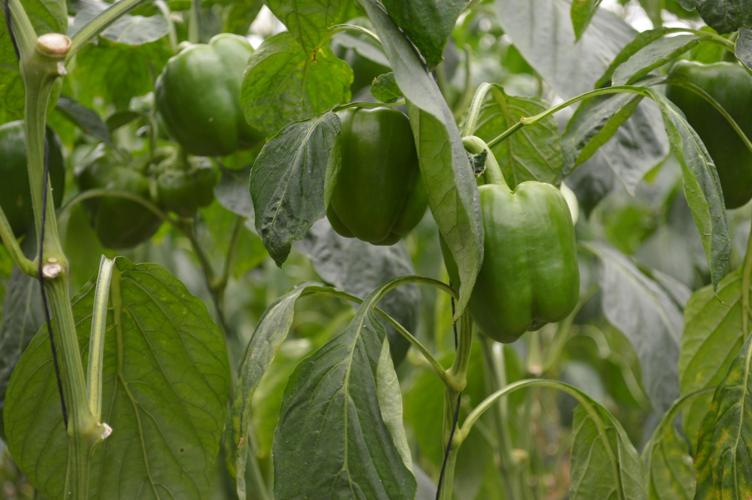BellPepper: (448, 177, 581, 333), (312, 107, 435, 256), (159, 32, 259, 143), (668, 60, 742, 202), (76, 153, 161, 245), (4, 119, 70, 232), (151, 157, 228, 213)
